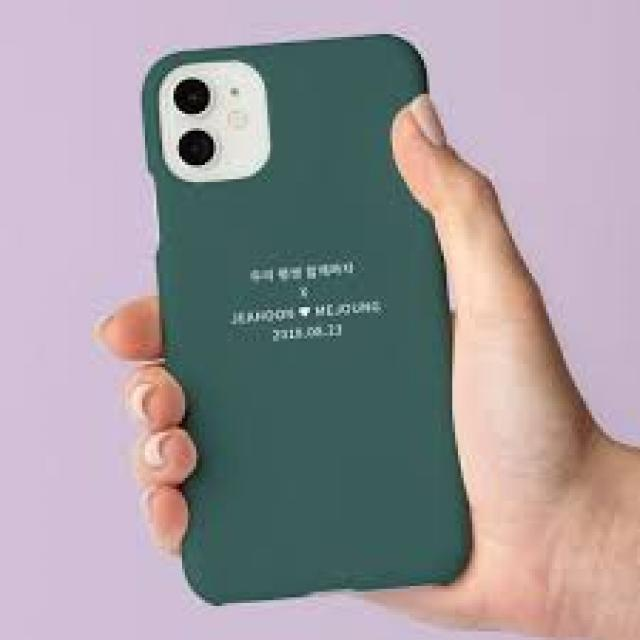Mobile: (139, 32, 477, 608)
